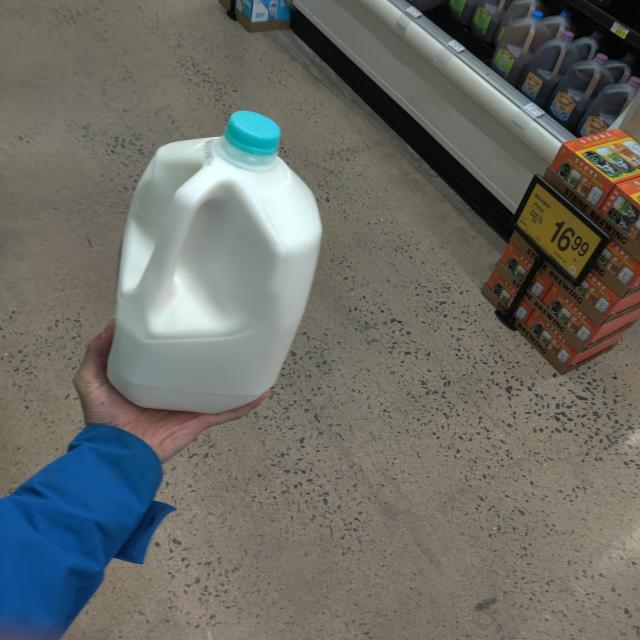Milk: (104, 111, 324, 413)
